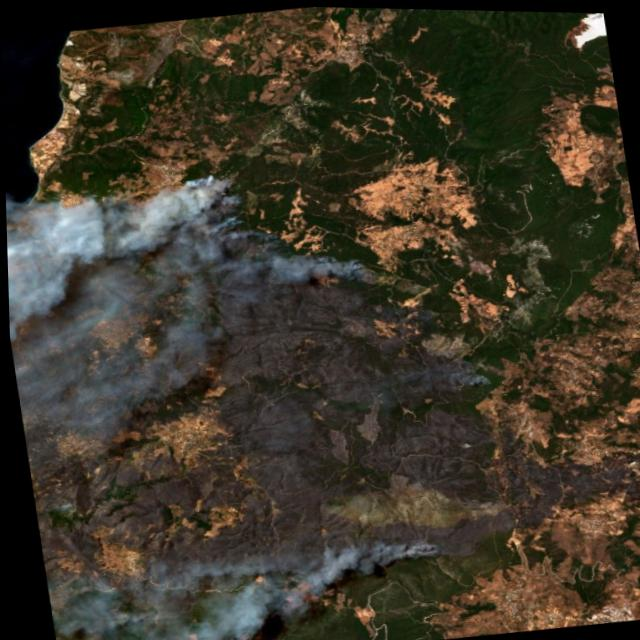fire: (3, 129, 507, 454), (33, 468, 498, 640)
